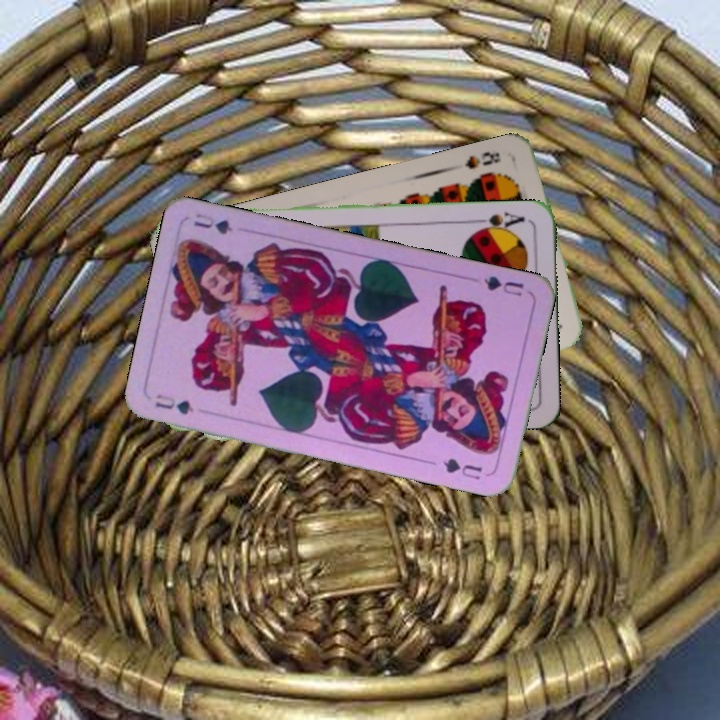GU: (151, 390, 197, 418), (479, 272, 526, 299)
S8: (461, 147, 504, 172)
SA: (471, 207, 527, 235)
